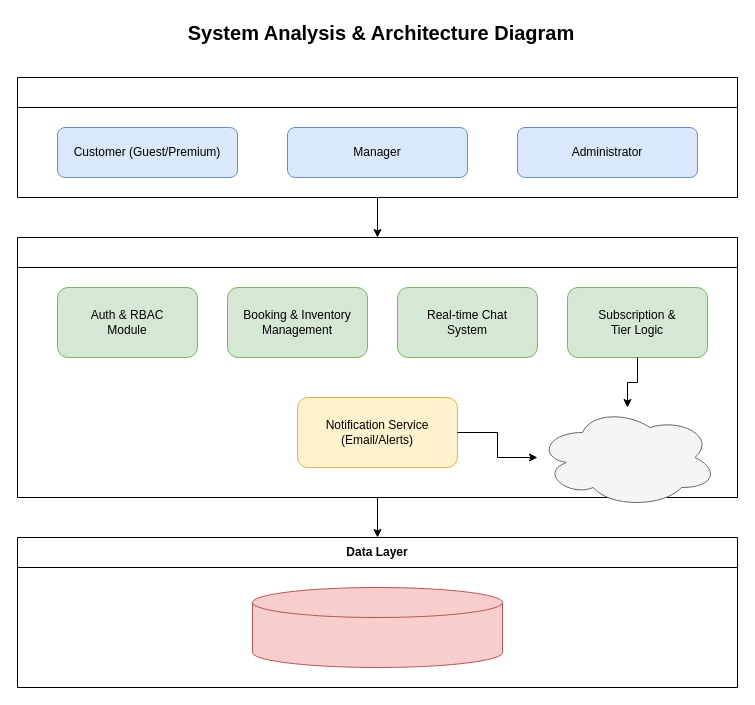
Some shapes in this 755 by 705 pixel diagram are drawn without their labels. The shapes that lost their labels are listed below. From the top down, each one's box as (x1, y1, x2, y2) in pixels, then its label:
(16, 76, 738, 198): Client / User Layer
(16, 236, 738, 498): Application Layer (Laravel MVC)
(536, 406, 718, 508): Payment Gateway / SMTP
(252, 586, 502, 668): MySQL Relational Database (Users, Rooms, Bookings, Messages)
